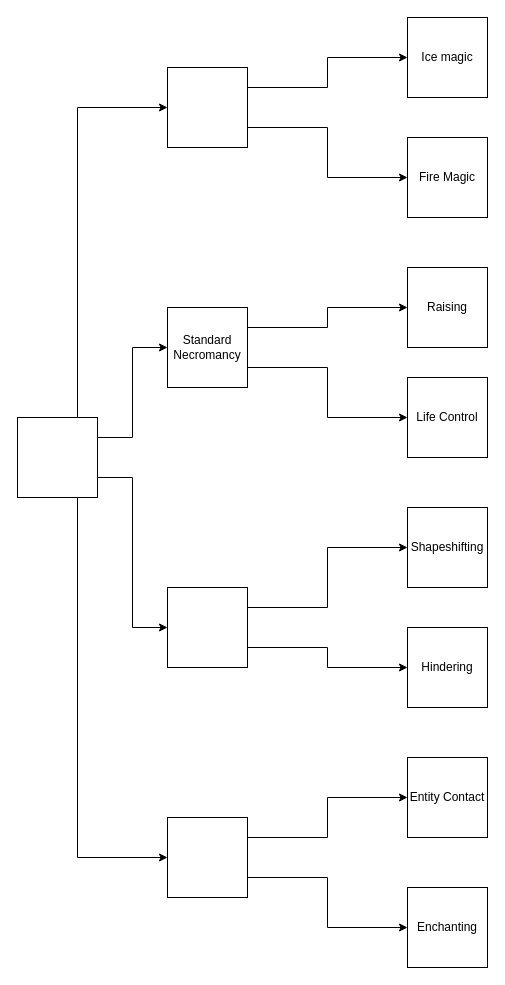
Image size: 505x985. Some labels were removed from this diagram. Here are the shapes that lost their labels. From the top down, the box of each, then its label:
(166, 66, 248, 148): Standard Elementalism
(16, 416, 98, 498): Apprentice Sorcery
(166, 586, 248, 668): Standard Alteration
(166, 816, 248, 898): Standard Conjuring
